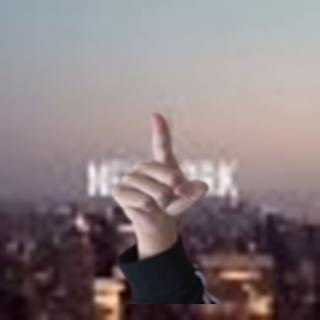IRRITATED: (107, 110, 211, 231)
